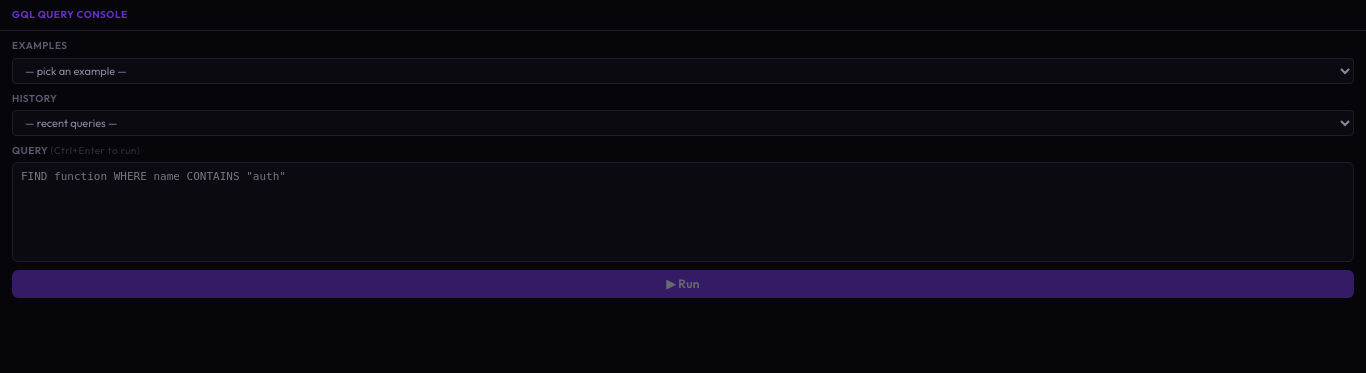
Test: QueryPanel › shows API errors as panel errors
Type "COUNT function GROUP BY" into the text box with placeholder "FIND function WHERE name CONTAINS \"auth\"" at (683, 212), box left=12, top=162, right=1354, bottom=262
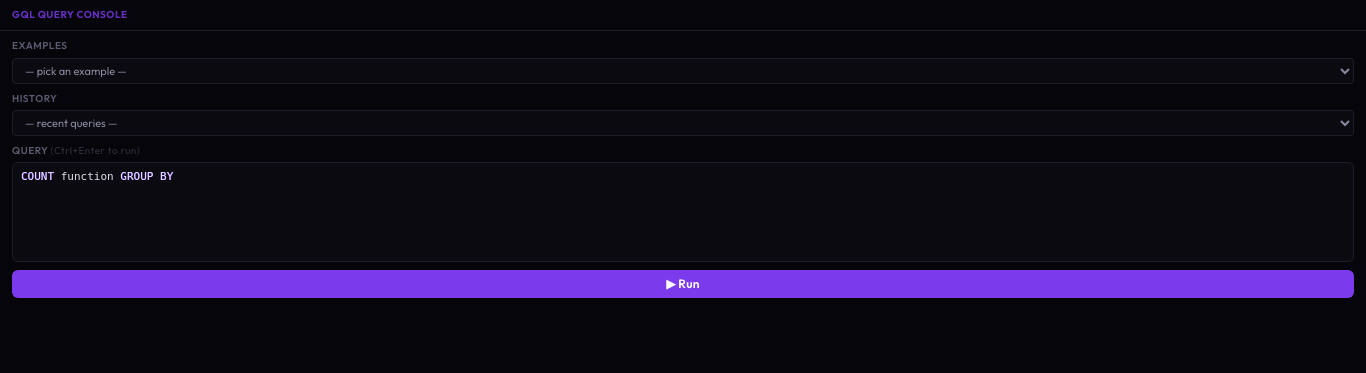
Click the button "▶ Run" at (683, 284), box left=12, top=270, right=1354, bottom=298
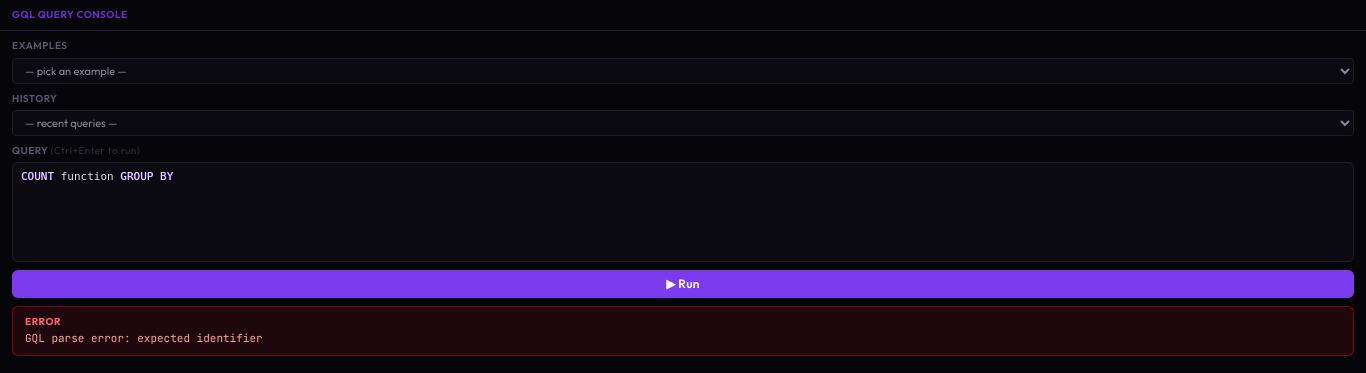
Expected: the text "GQL parse error: expected identifier" is shown, left=25, top=331, right=263, bottom=345
